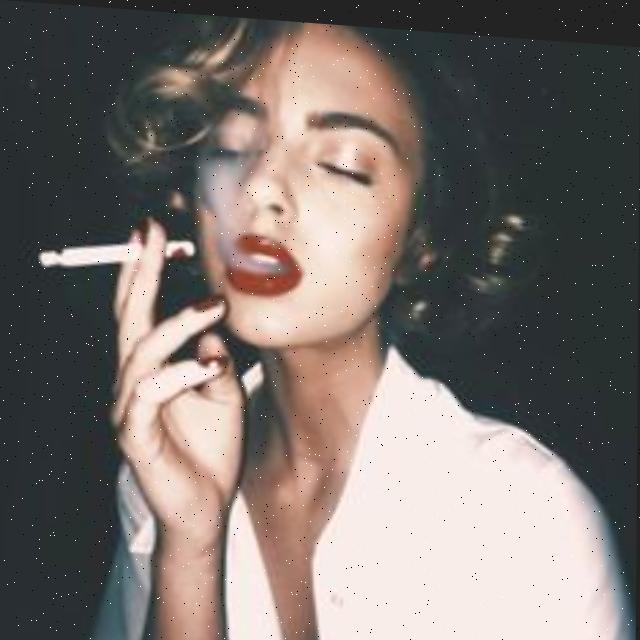cigarette: (39, 230, 194, 275)
